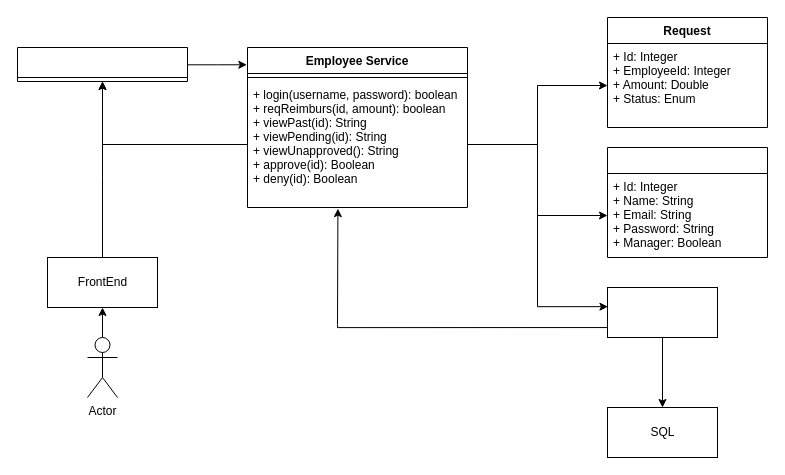
This 785x475 diagram has some shape labels left out. The shapes that lost their labels are listed below. From the top down, each one's box as (x1, y1, x2, y2) in pixels, then its label:
(16, 46, 188, 82): Employee Servlet
(606, 146, 768, 258): Employee
(606, 286, 718, 338): Hibernate
